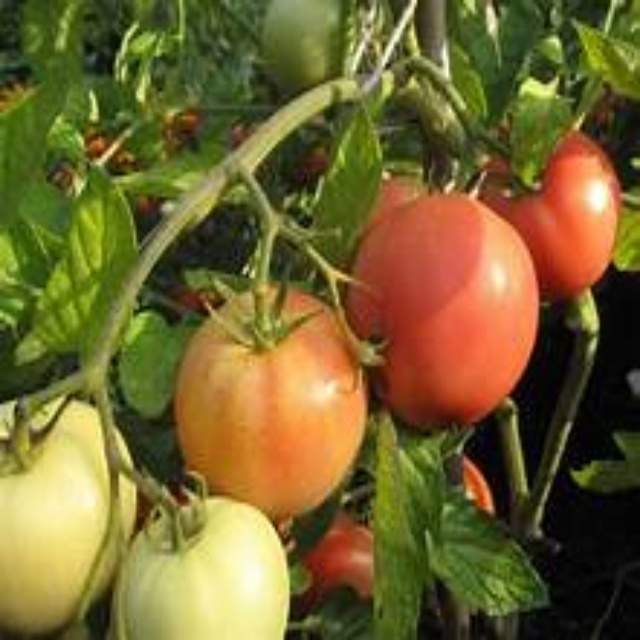tomato: (164, 292, 380, 514), (347, 194, 541, 423), (0, 402, 141, 623), (471, 125, 620, 299), (110, 492, 289, 636)
